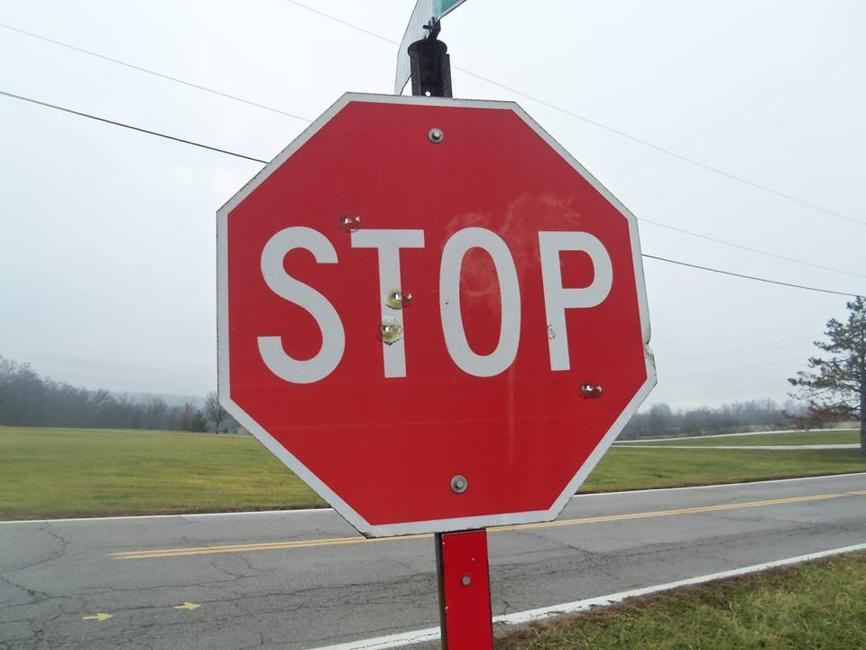stop: (213, 100, 656, 530), (213, 210, 654, 530), (351, 96, 656, 521), (215, 100, 657, 380), (216, 135, 658, 406)
